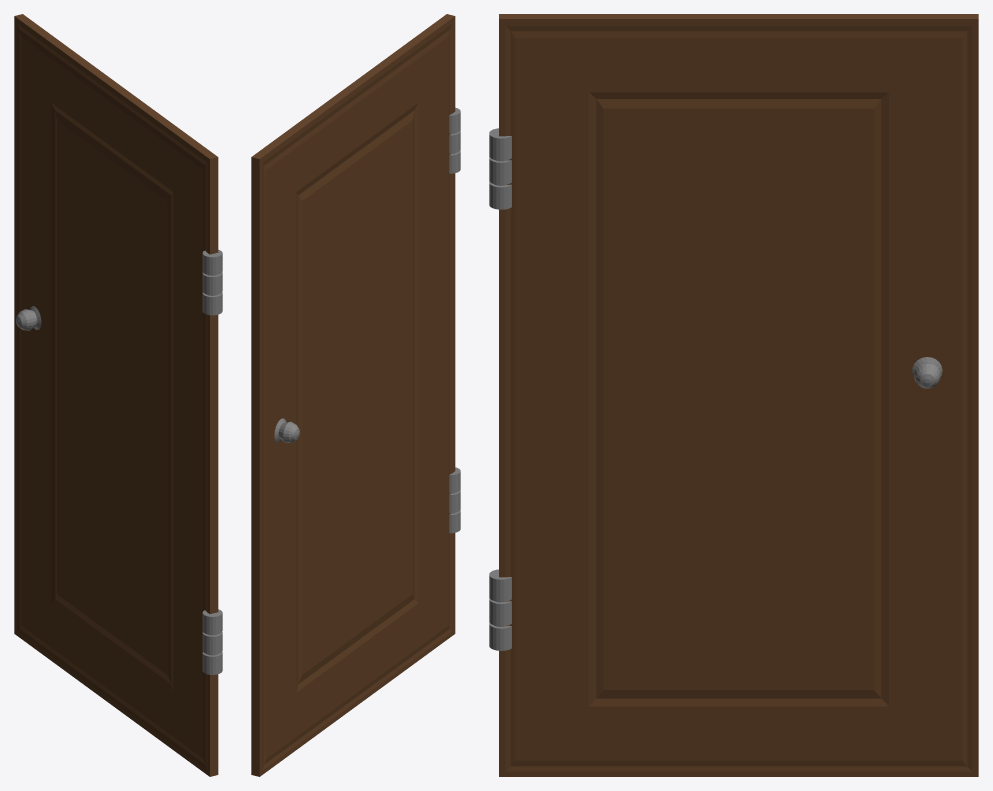
The model's file is door.fbx.
3 views of the same model, side by side, from view 1: azimuth 30°, elevation 25°; view 2: azimuth 150°, elevation 25°; view 3: azimuth 270°, elevation 25° (orthographic). The views are drawn at different scales.
Parts seen in each view (by area): view 1: Door, Hinge1, Hinge2, door knobs; view 2: Door, Hinge1, Hinge2, door knobs; view 3: Door, Hinge2, Hinge1.
Boxes of the visible parts, x1,y1,x2,y2 form: Door: [14, 14, 218, 776]; Hinge1: [202, 249, 222, 315]; Hinge2: [202, 609, 222, 674]; door knobs: [16, 306, 41, 330]; Door: [251, 14, 455, 776]; Hinge1: [449, 107, 460, 173]; Hinge2: [449, 467, 460, 533]; door knobs: [274, 418, 299, 442]; Door: [499, 14, 978, 776]; Hinge2: [489, 569, 511, 650]; Hinge1: [489, 128, 511, 209].
Size of the model in its own units: 51.43 by 700 by 410.
